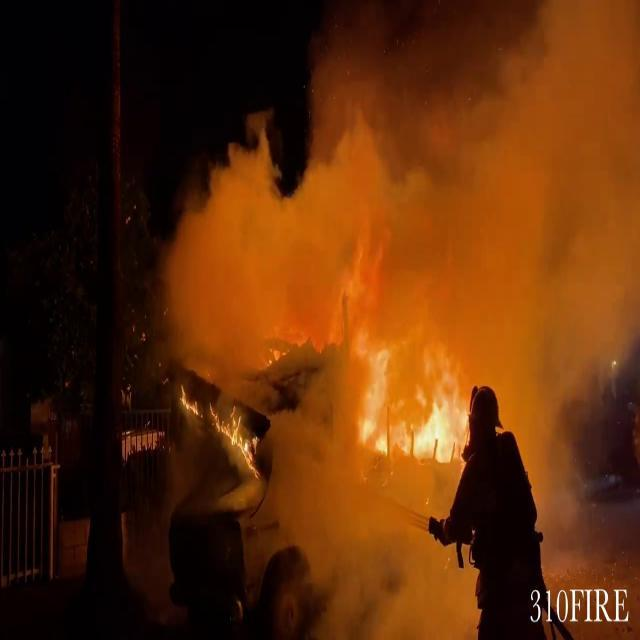Fire: (344, 320, 478, 460), (174, 378, 260, 463)
Smoke: (156, 0, 640, 529)
